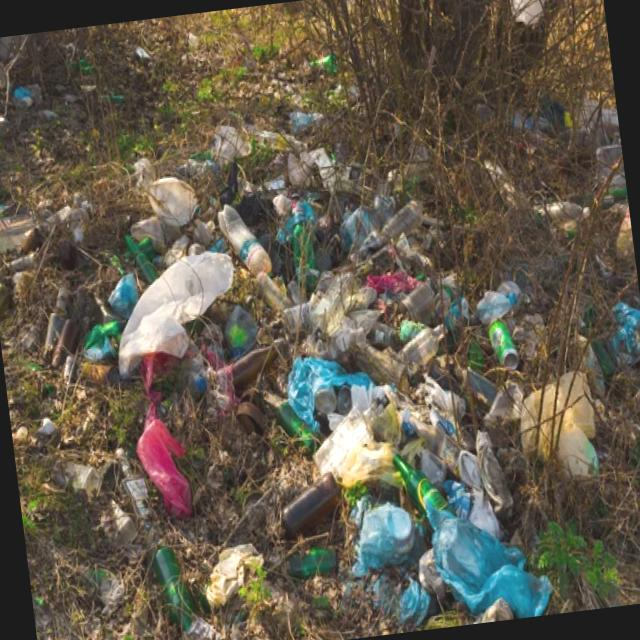garbage: (50, 64, 594, 607)
